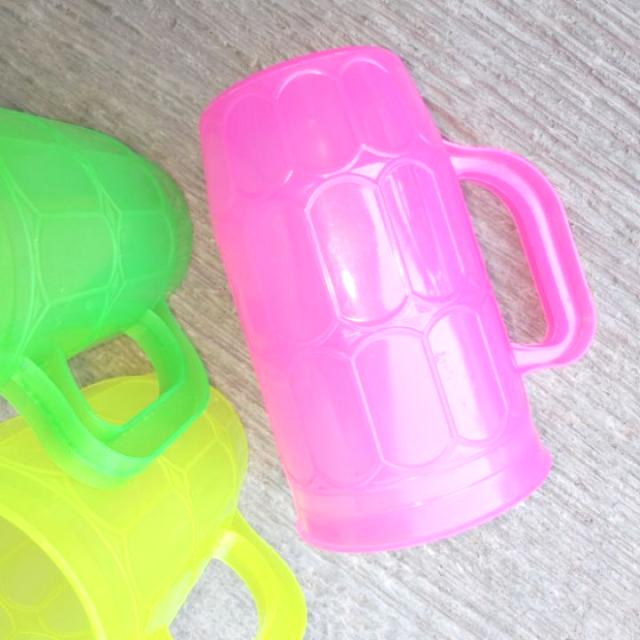Cangkir: (194, 37, 606, 569), (0, 108, 219, 494), (0, 364, 302, 640)
